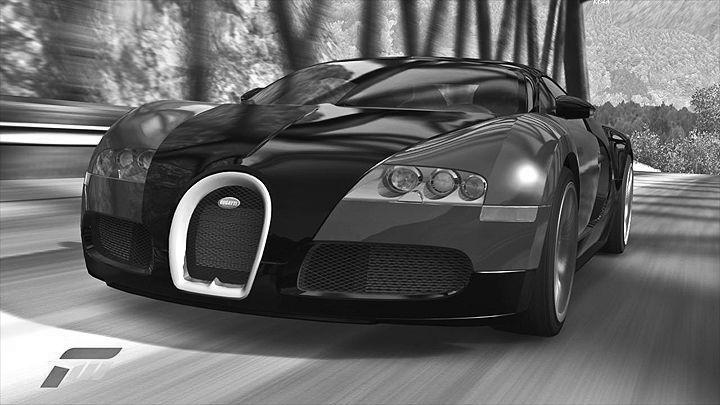car: (81, 57, 638, 336)
